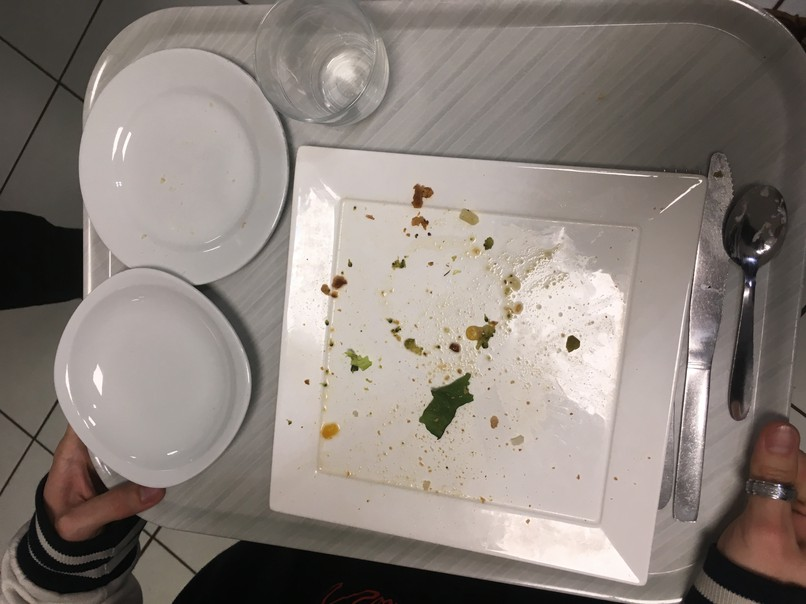cup: (241, 1, 397, 136)
cutlery: (654, 138, 787, 548)
orga: (415, 379, 484, 441)
